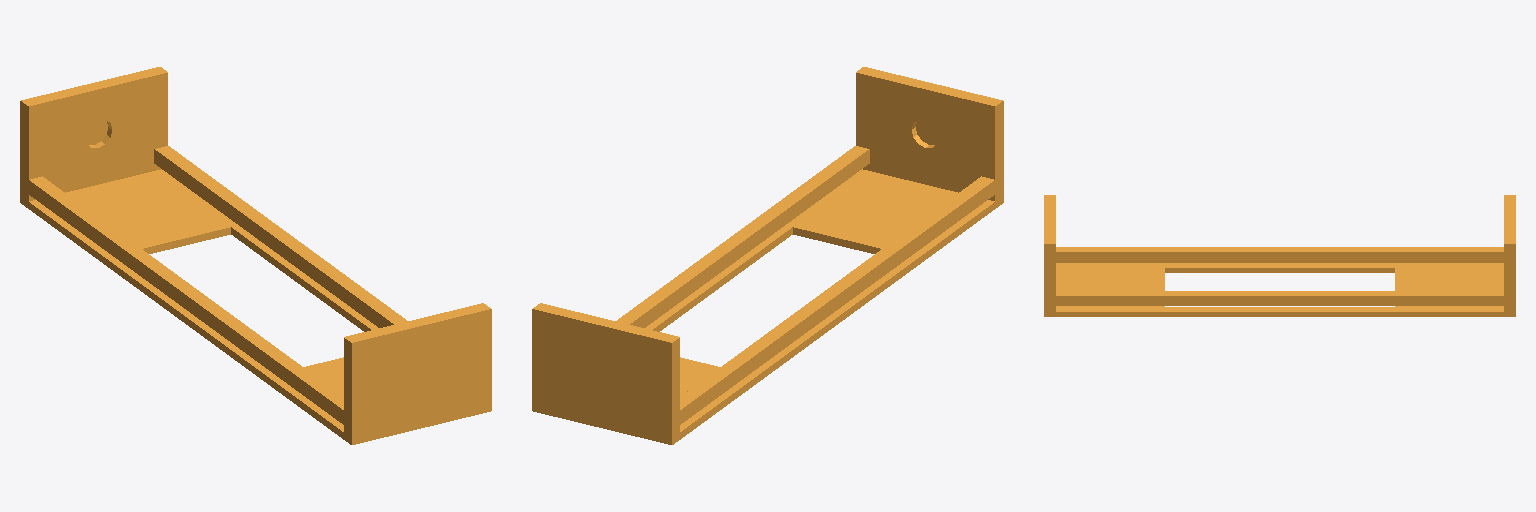
URDF robot description (solidworks2ros_try4):
<?xml version="1.0" encoding="utf-8"?>
<!-- This URDF was automatically created by SolidWorks to URDF Exporter! Originally created by [author] ([email redacted]) 
     Commit Version: 1.6.0-4-g7f85cfe  Build Version: 1.6.7995.38578
     For more information, please see http://wiki.ros.org/sw_urdf_exporter -->
<robot
  name="solidworks2ros_try4">
  <link
    name="base_link">
    <inertial>
      <origin
        xyz="0 -7.7715611723761E-16 -0.268065776195721"
        rpy="0 0 0" />
      <mass
        value="675.676354015462" />
      <inertia
        ixx="2906.45536818695"
        ixy="-2.49082720609635E-13"
        ixz="-3.48827840763135E-15"
        iyy="171.801722309838"
        iyz="-8.32667268468867E-14"
        izz="2995.67094438192" />
    </inertial>
    <visual>
      <origin
        xyz="0 0 0"
        rpy="0 0 0" />
      <geometry>
        <mesh
          filename="package://solidworks2ros_try4/meshes/base_link.STL" />
      </geometry>
      <material
        name="">
        <color
          rgba="1 0.72156862745098 0.329411764705882 1" />
      </material>
    </visual>
    <collision>
      <origin
        xyz="0 0 0"
        rpy="0 0 0" />
      <geometry>
        <mesh
          filename="package://solidworks2ros_try4/meshes/base_link.STL" />
      </geometry>
    </collision>
  </link>
  <link
    name="link_1">
    <inertial>
      <origin
        xyz="8.6234E-07 -1.4857E-05 2.0799E-06"
        rpy="0 0 0" />
      <mass
        value="295.71" />
      <inertia
        ixx="555.35"
        ixy="0.0013913"
        ixz="-0.00014897"
        iyy="4.9602"
        iyz="-0.0014908"
        izz="553" />
    </inertial>
    <visual>
      <origin
        xyz="0 0 0"
        rpy="0 0 0" />
      <geometry>
        <mesh
          filename="package://solidworks2ros_try4/meshes/link_1.STL" />
      </geometry>
      <material
        name="">
        <color
          rgba="1 1 1 1" />
      </material>
    </visual>
    <collision>
      <origin
        xyz="0 0 0"
        rpy="0 0 0" />
      <geometry>
        <mesh
          filename="package://solidworks2ros_try4/meshes/link_1.STL" />
      </geometry>
    </collision>
  </link>
  <joint
    name="joint_1"
    type="continuous">
    <origin
      xyz="0 0 0"
      rpy="0 0 0" />
    <parent
      link="base_link" />
    <child
      link="link_1" />
    <axis
      xyz="0 1 0" />
    <limit
      lower="0"
      upper="7.28"
      effort="300"
      velocity="1" />
  </joint>

<!-- Effort Contoller -->
<transmission name ="trans_1">
    <type>transmission_interface/SimpleTransmission</type>
    <joint name="joint_1">
        <hardwareInterface>hardware_interface/EffortJointInterface</hardwareInterface>
    </joint>
    <actuator name="motor_1">
        <hardwareInterface>hardware_interface/EffortJointInterface</hardwareInterface>
        <mechanicalReduction>1</mechanicalReduction>
    </actuator>
</transmission>

<!-- Gazebo controller -->
<gazebo>
    <plugin name="control" filename="libgazebo_ros_control.so"/>
</gazebo>
  
<!-- Gazebo visual interface for the links-->
<gazebo reference="base_link">
    <material>Gazebo/Orange</material>
</gazebo>
<gazebo reference="link_1">
    <material>Gazebo/white</material>
</gazebo>

</robot>

--- Render facts (derived) ---
The picture shows the robot from 3 angles, left to right: view 1: azimuth 30°, elevation 25°; view 2: azimuth 150°, elevation 25°; view 3: azimuth 270°, elevation 25°; orthographic projection.
Model solidworks2ros_try4 with 2 links and 1 joints (1 continuous), rooted at base_link, posed every joint at zero.
Visible links, largest first — view 1: base_link; view 2: base_link; view 3: base_link.
Boxes of the visible links, box(x1,y1,x2,y2) form: base_link: box(20, 67, 491, 444); base_link: box(532, 67, 1003, 444); base_link: box(1044, 195, 1515, 316).
Size in the robot's own frame: 1.27 by 5.21 by 0.889 metres.
1 mesh visuals loaded from 2 distinct referenced files (1 binary STL); not drawn: 1 (reference not matched to a file when rendering).
